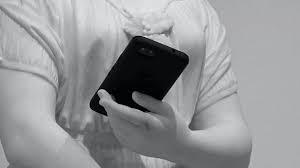Hand: (93, 93, 185, 156)
Smartphone: (80, 46, 188, 120)
